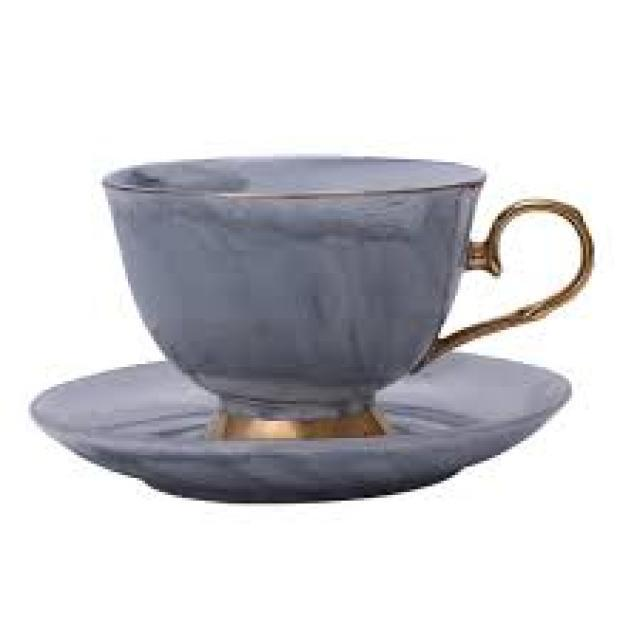taza: (98, 99, 610, 449)
